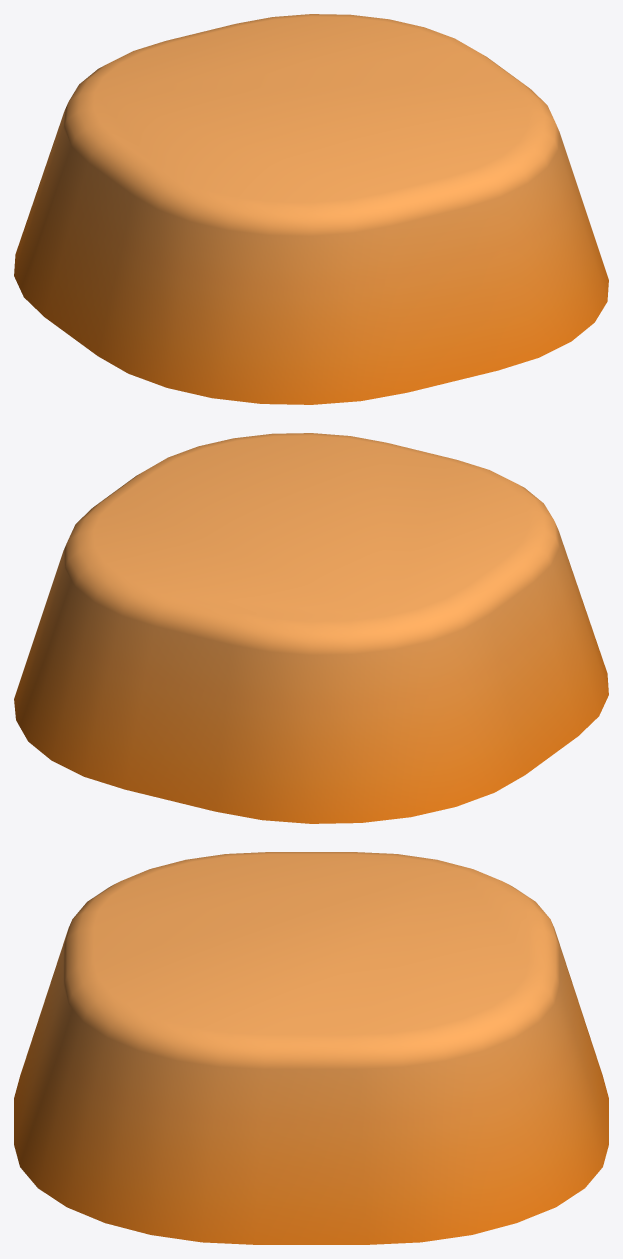
File: Rock_A_01.fbx
3 renders of one model, top to bottom at view 1: azimuth 30°, elevation 25°; view 2: azimuth 150°, elevation 25°; view 3: azimuth 270°, elevation 25°, orthographic. The views are drawn at different scales.
Parts seen in each view (by area): view 1: Rock_A_01; view 2: Rock_A_01; view 3: Rock_A_01.
Boxes of the visible parts, <box> form: Rock_A_01: <box>14,14,608,404</box>; Rock_A_01: <box>14,433,608,823</box>; Rock_A_01: <box>14,852,608,1244</box>.
Bounding box in the file's own units: 180 × 60.3 × 184.
